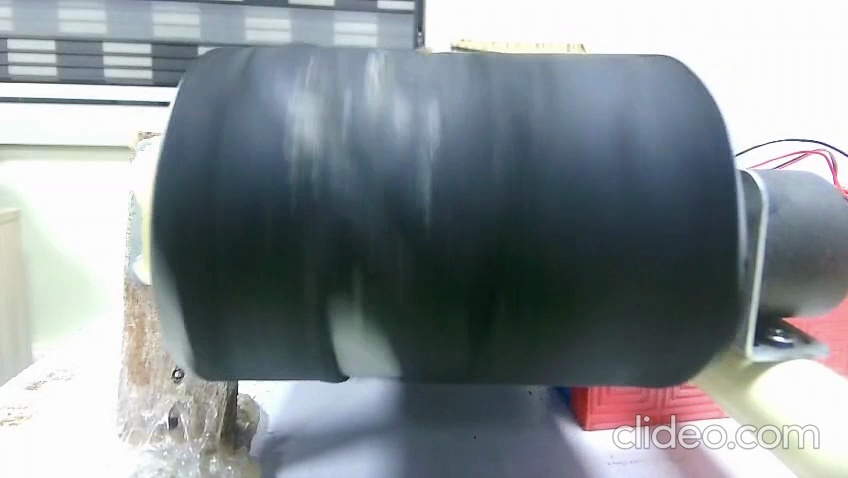hole: (319, 289, 407, 383)
